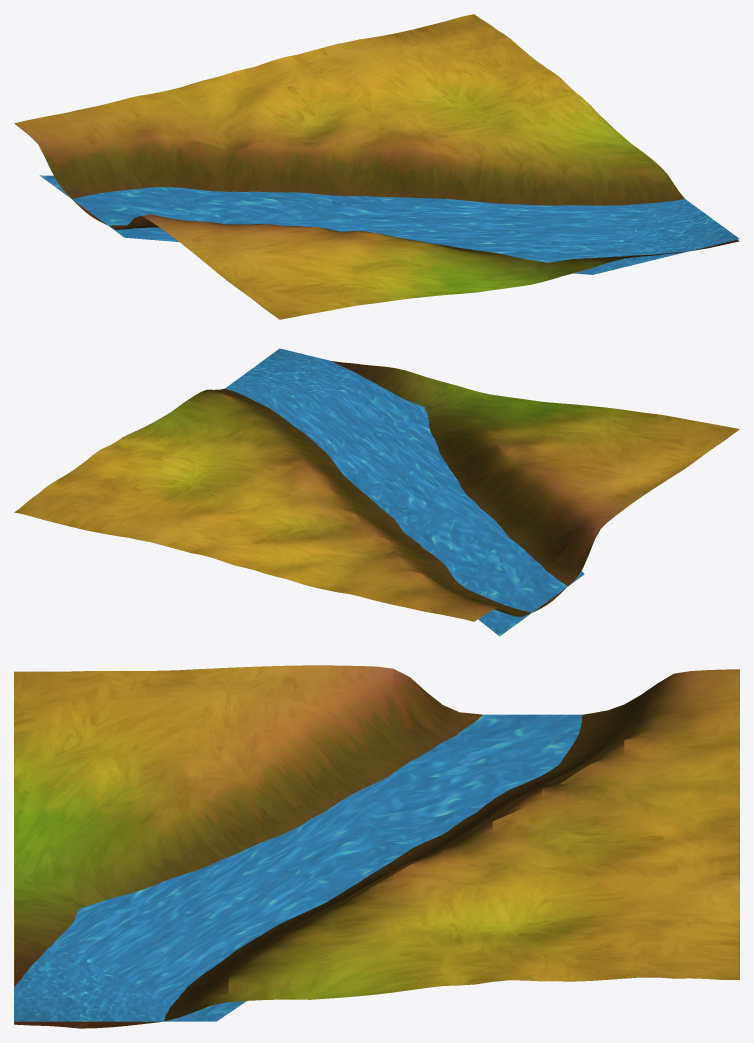
The model's file is rio.obj.
3 views of the same model, one above another, from view 1: azimuth 30°, elevation 25°; view 2: azimuth 150°, elevation 25°; view 3: azimuth 270°, elevation 25° (orthographic). The views are drawn at different scales.
Visible parts, largest first — view 1: Mesh_tierra_0, Mesh_(2)_Default_0; view 2: Mesh_tierra_0, Mesh_(2)_Default_0; view 3: Mesh_tierra_0, Mesh_(2)_Default_0.
Part boxes in pixels (<box>): Mesh_tierra_0: <box>14,14,739,319</box>; Mesh_(2)_Default_0: <box>39,175,739,274</box>; Mesh_tierra_0: <box>14,361,739,621</box>; Mesh_(2)_Default_0: <box>225,348,584,636</box>; Mesh_tierra_0: <box>14,665,739,1028</box>; Mesh_(2)_Default_0: <box>14,714,582,1021</box>.
Bounding box in the file's own units: 100 × 8.81 × 100.
2 materials, 2 textured.
